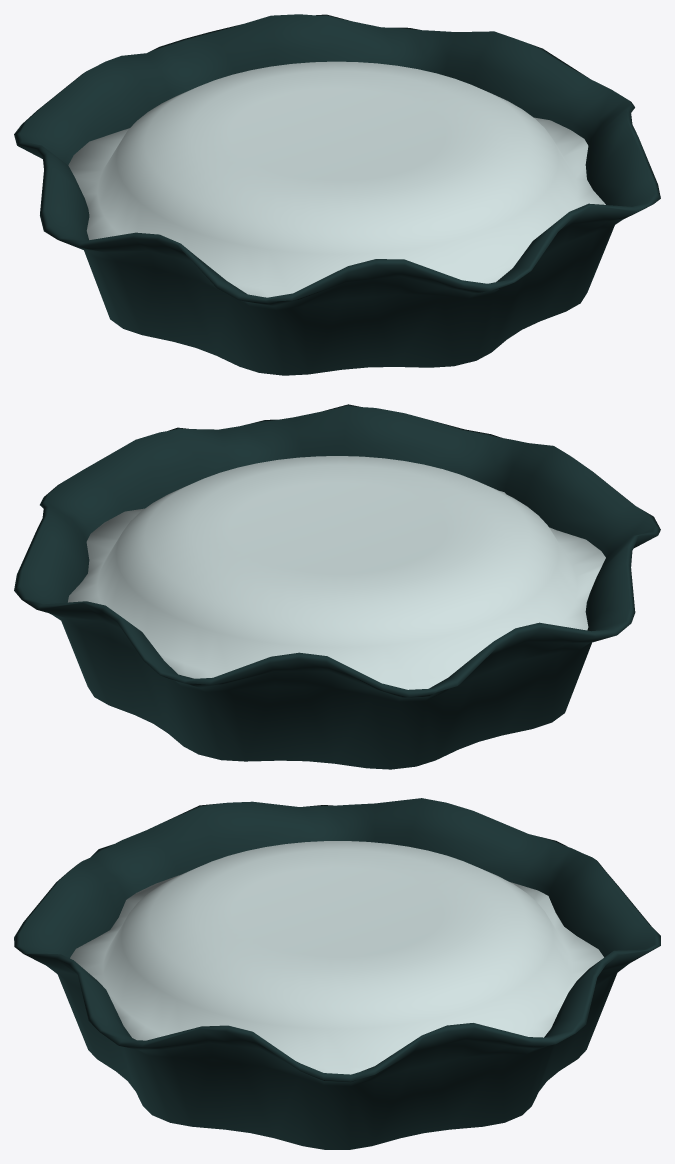
File: Main.fbx
The picture shows the model from 3 angles, top to bottom: view 1: azimuth 30°, elevation 25°; view 2: azimuth 150°, elevation 25°; view 3: azimuth 270°, elevation 25°; orthographic projection. The views are drawn at different scales.
Visible parts, largest first — view 1: 빙수바닥.002; view 2: 빙수바닥.002; view 3: 빙수바닥.002.
Boxes of the visible parts, bbox=[...] form: 빙수바닥.002: bbox=[14, 14, 660, 375]; 빙수바닥.002: bbox=[14, 404, 660, 769]; 빙수바닥.002: bbox=[14, 798, 660, 1149].
Bounding box in the file's own units: 1690 × 386 × 1690.
